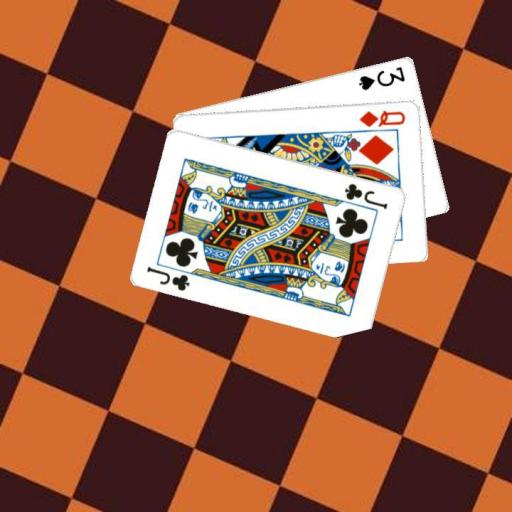3S: (356, 63, 407, 92)
JC: (342, 180, 390, 210), (144, 263, 192, 293)
QD: (356, 107, 407, 129)
